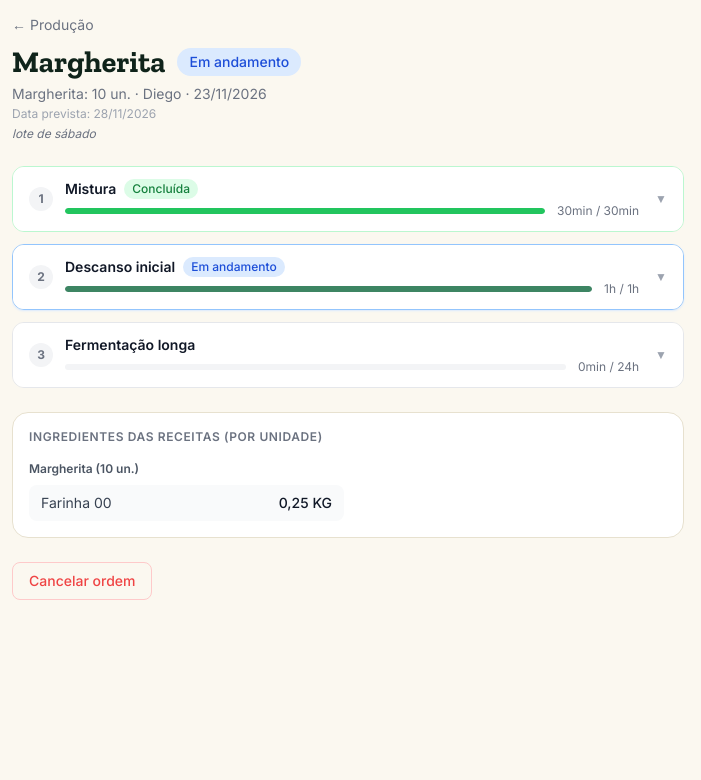
detalhe da ordem de produção › mostra os registros de uma etapa concluída e o erro de uma ação recusada
Click the text "Mistura" at {"x": 91, "y": 189}, box [65,179,116,199]
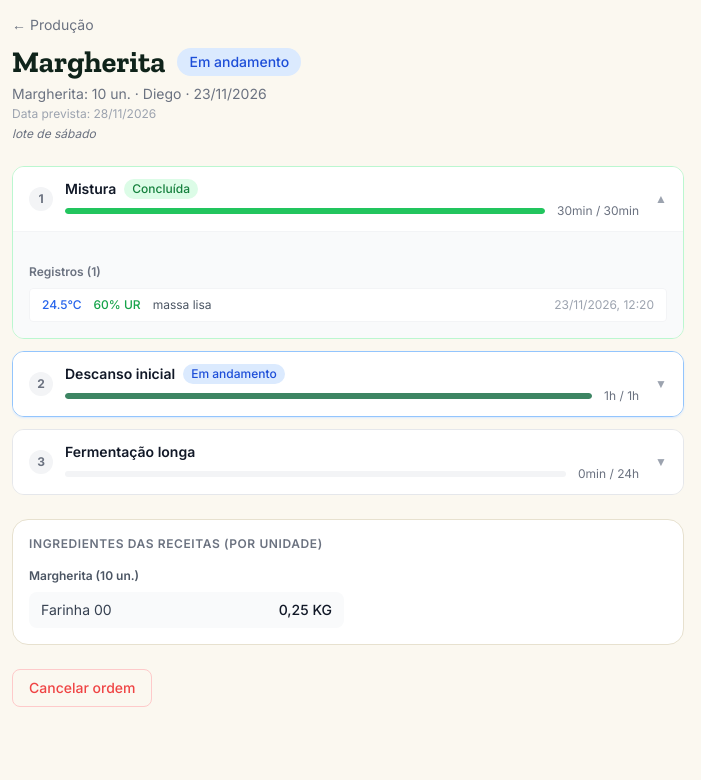
Expected: the text "massa lisa" is shown, [153,297,212,313]
Expected: the text "Registros (1)" is shown, [29,264,101,279]
Click the text "Fermentação longa" at {"x": 130, "y": 452}, box [65,442,195,462]
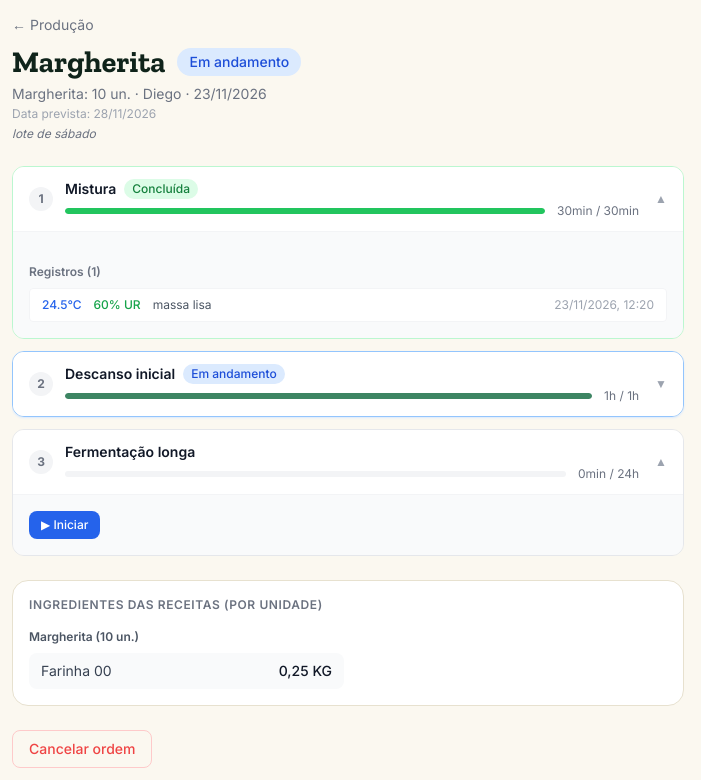
Click the button "▶ Iniciar" at {"x": 65, "y": 525}, box [29,511,100,539]
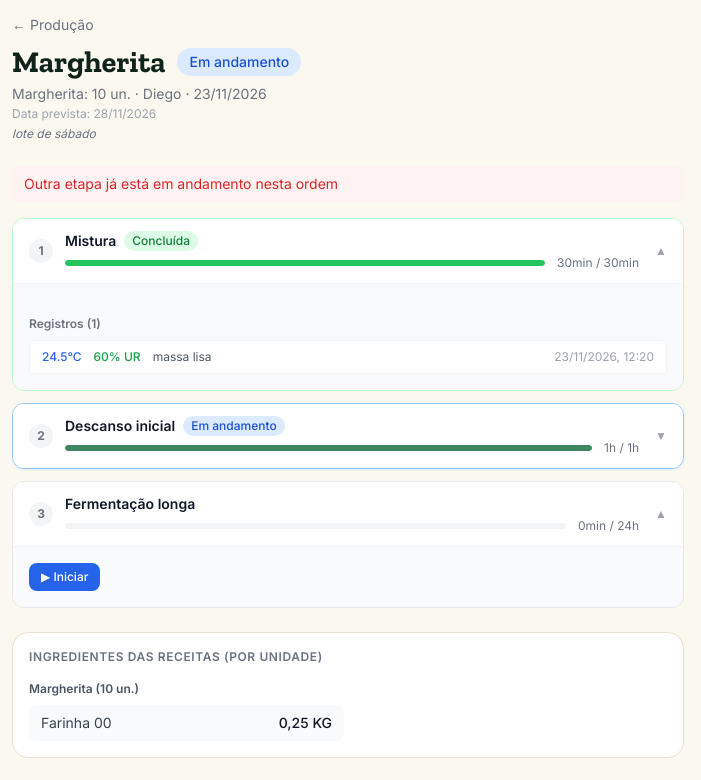
Expected: the text "Outra etapa já está em andamento nesta ordem" is shown, [12,166,684,202]
